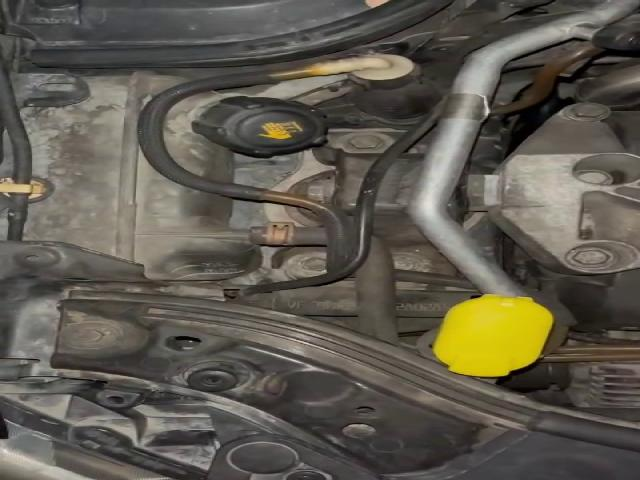antifreeze_tank: (22, 72, 261, 280), (163, 92, 327, 181)
